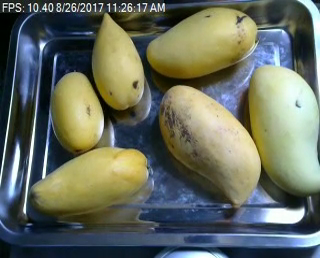Mango: (158, 85, 261, 206), (247, 66, 320, 195), (146, 6, 260, 77), (32, 146, 147, 215), (92, 13, 144, 108), (50, 72, 104, 151)
